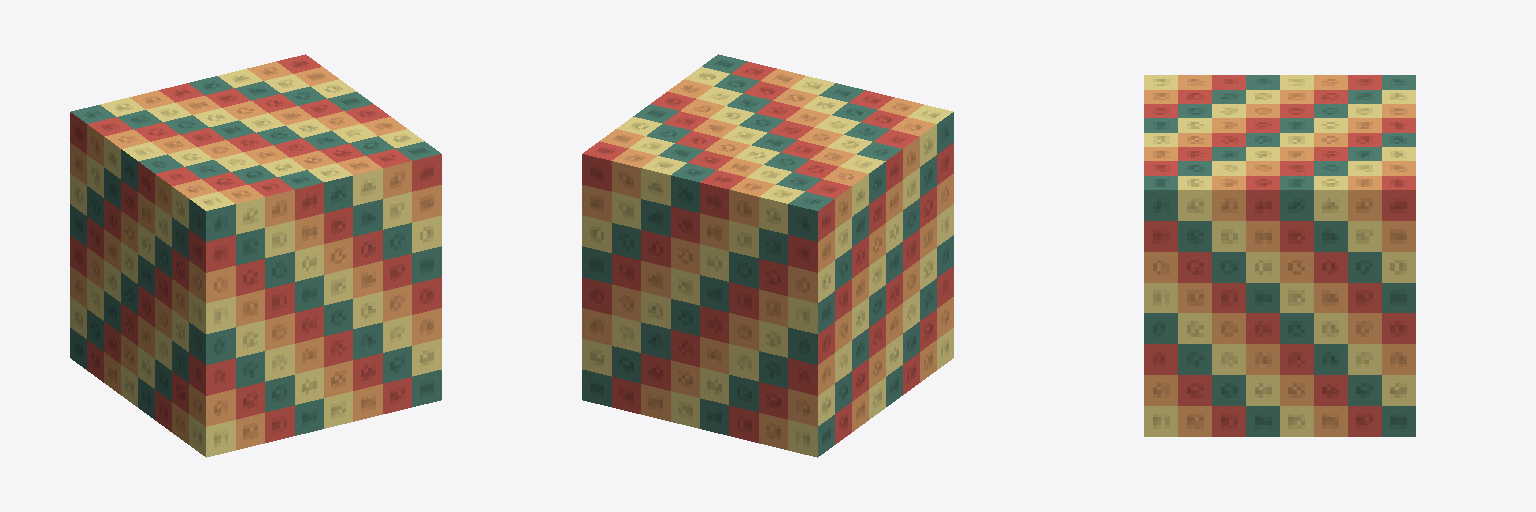
3 renders of one model, left to right at view 1: azimuth 30°, elevation 25°; view 2: azimuth 150°, elevation 25°; view 3: azimuth 270°, elevation 25°, orthographic.
Parts seen in each view (by area): view 1: Cube; view 2: Cube; view 3: Cube.
Boxes of the visible parts, <box> form: Cube: <box>70,54,441,457</box>; Cube: <box>582,54,953,457</box>; Cube: <box>1144,75,1415,436</box>.
Bounding box in the file's own units: 2 × 2 × 2.
Materials: 1 (1 with a texture image).